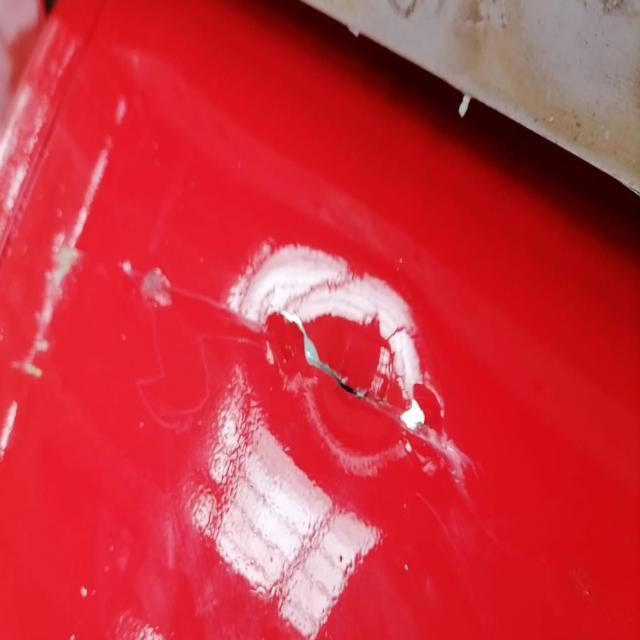crack: (126, 220, 470, 462)
